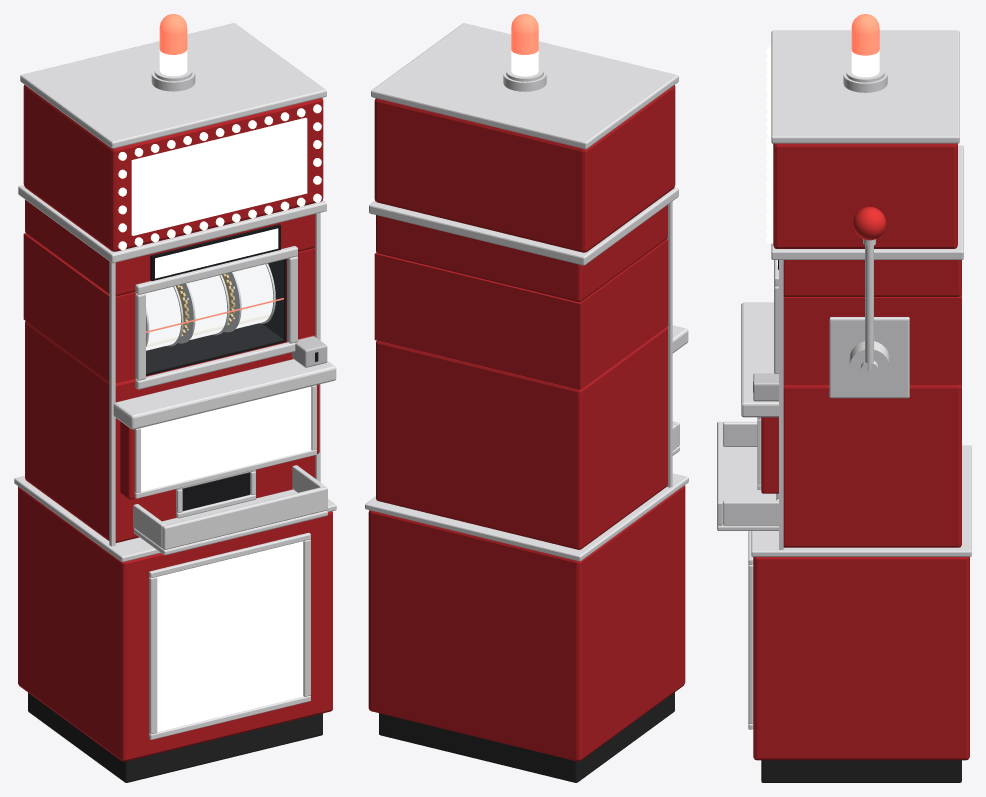
File: slot.glb
3 views of the same model, side by side, from view 1: azimuth 30°, elevation 25°; view 2: azimuth 150°, elevation 25°; view 3: azimuth 270°, elevation 25° (orthographic).
Parts seen in each view (by area): view 1: corpo_rossa, pannello_basso_rossa, insegna_rossa, pannello_rossa, rullo_2_rossa, rullo_3_rossa, display_rossa, rullo_1_rossa, candela_rossa, lampadine_b_rossa, lampadine_a_rossa, cornice_display_rossa (+1 smaller); view 2: corpo_rossa, candela_rossa, base_candela_rossa; view 3: corpo_rossa, leva_rossa, candela_rossa, base_candela_rossa, lampadine_a_rossa, lampadine_b_rossa.
Boxes of the visible parts, x1,y1,x2,y2 form: corpo_rossa: [14, 23, 336, 782]; pannello_basso_rossa: [157, 541, 303, 731]; insegna_rossa: [131, 117, 307, 235]; pannello_rossa: [141, 386, 311, 491]; rullo_2_rossa: [176, 275, 229, 343]; rullo_3_rossa: [222, 263, 275, 332]; display_rossa: [155, 228, 278, 278]; rullo_1_rossa: [145, 286, 183, 350]; candela_rossa: [159, 14, 187, 76]; lampadine_b_rossa: [118, 104, 321, 246]; lampadine_a_rossa: [118, 108, 321, 250]; cornice_display_rossa: [150, 224, 280, 280]; corpo_rossa: [365, 23, 688, 782]; candela_rossa: [511, 14, 538, 76]; base_candela_rossa: [503, 65, 546, 91]; corpo_rossa: [717, 30, 971, 782]; leva_rossa: [852, 206, 886, 378]; candela_rossa: [851, 14, 879, 77]; base_candela_rossa: [843, 66, 887, 92]; lampadine_a_rossa: [766, 55, 773, 243]; lampadine_b_rossa: [766, 47, 773, 234].
Bounding box in the file's own units: 0.732 × 1.98 × 0.635.
